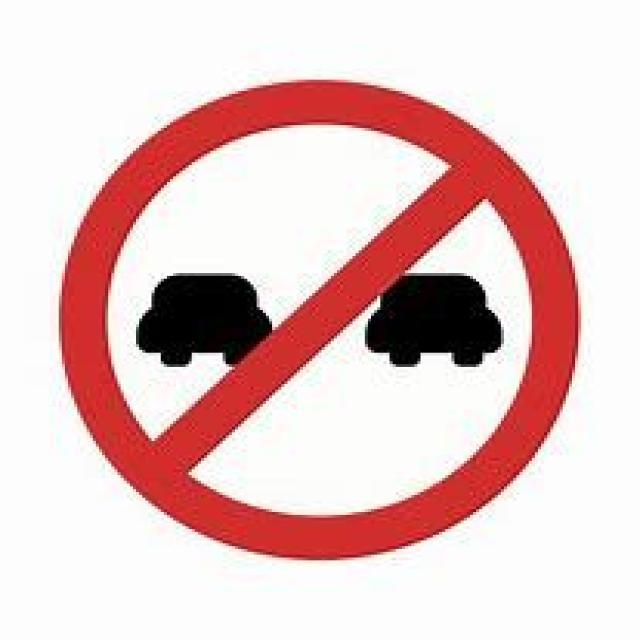overtaking prohibited: (50, 72, 583, 565)
